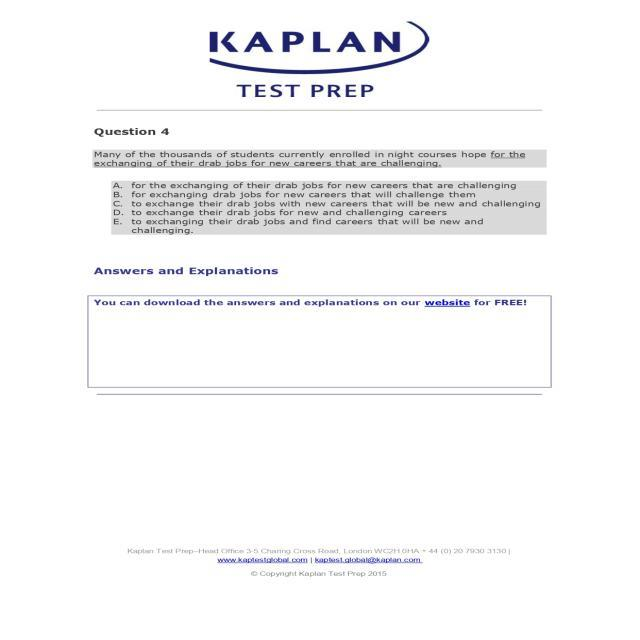Answer_Block: (111, 180, 556, 233)
Description: (86, 262, 557, 388)
Question_Answer_Block: (86, 122, 557, 264)
Question_Block: (86, 121, 557, 170)
Question_Paper_Area: (86, 121, 557, 389)
